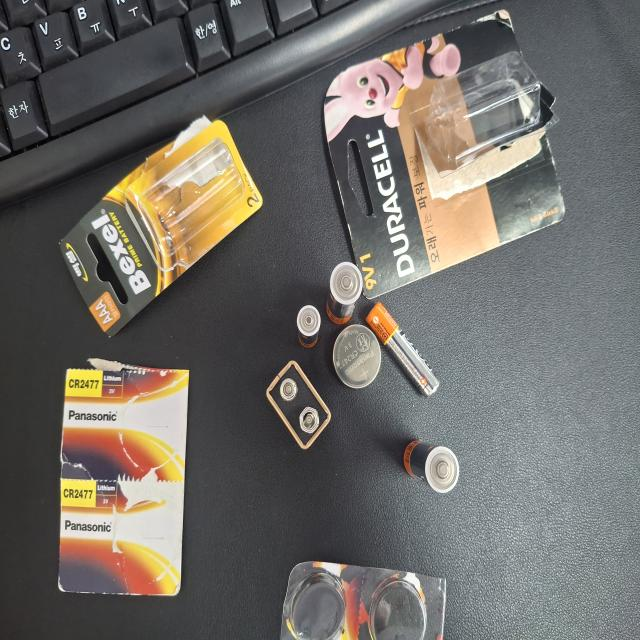9V: (143, 355, 209, 442)
AA: (110, 538, 150, 612), (237, 436, 283, 484)
AAA: (182, 488, 254, 586), (220, 396, 251, 427)
COIN: (189, 444, 236, 508)
